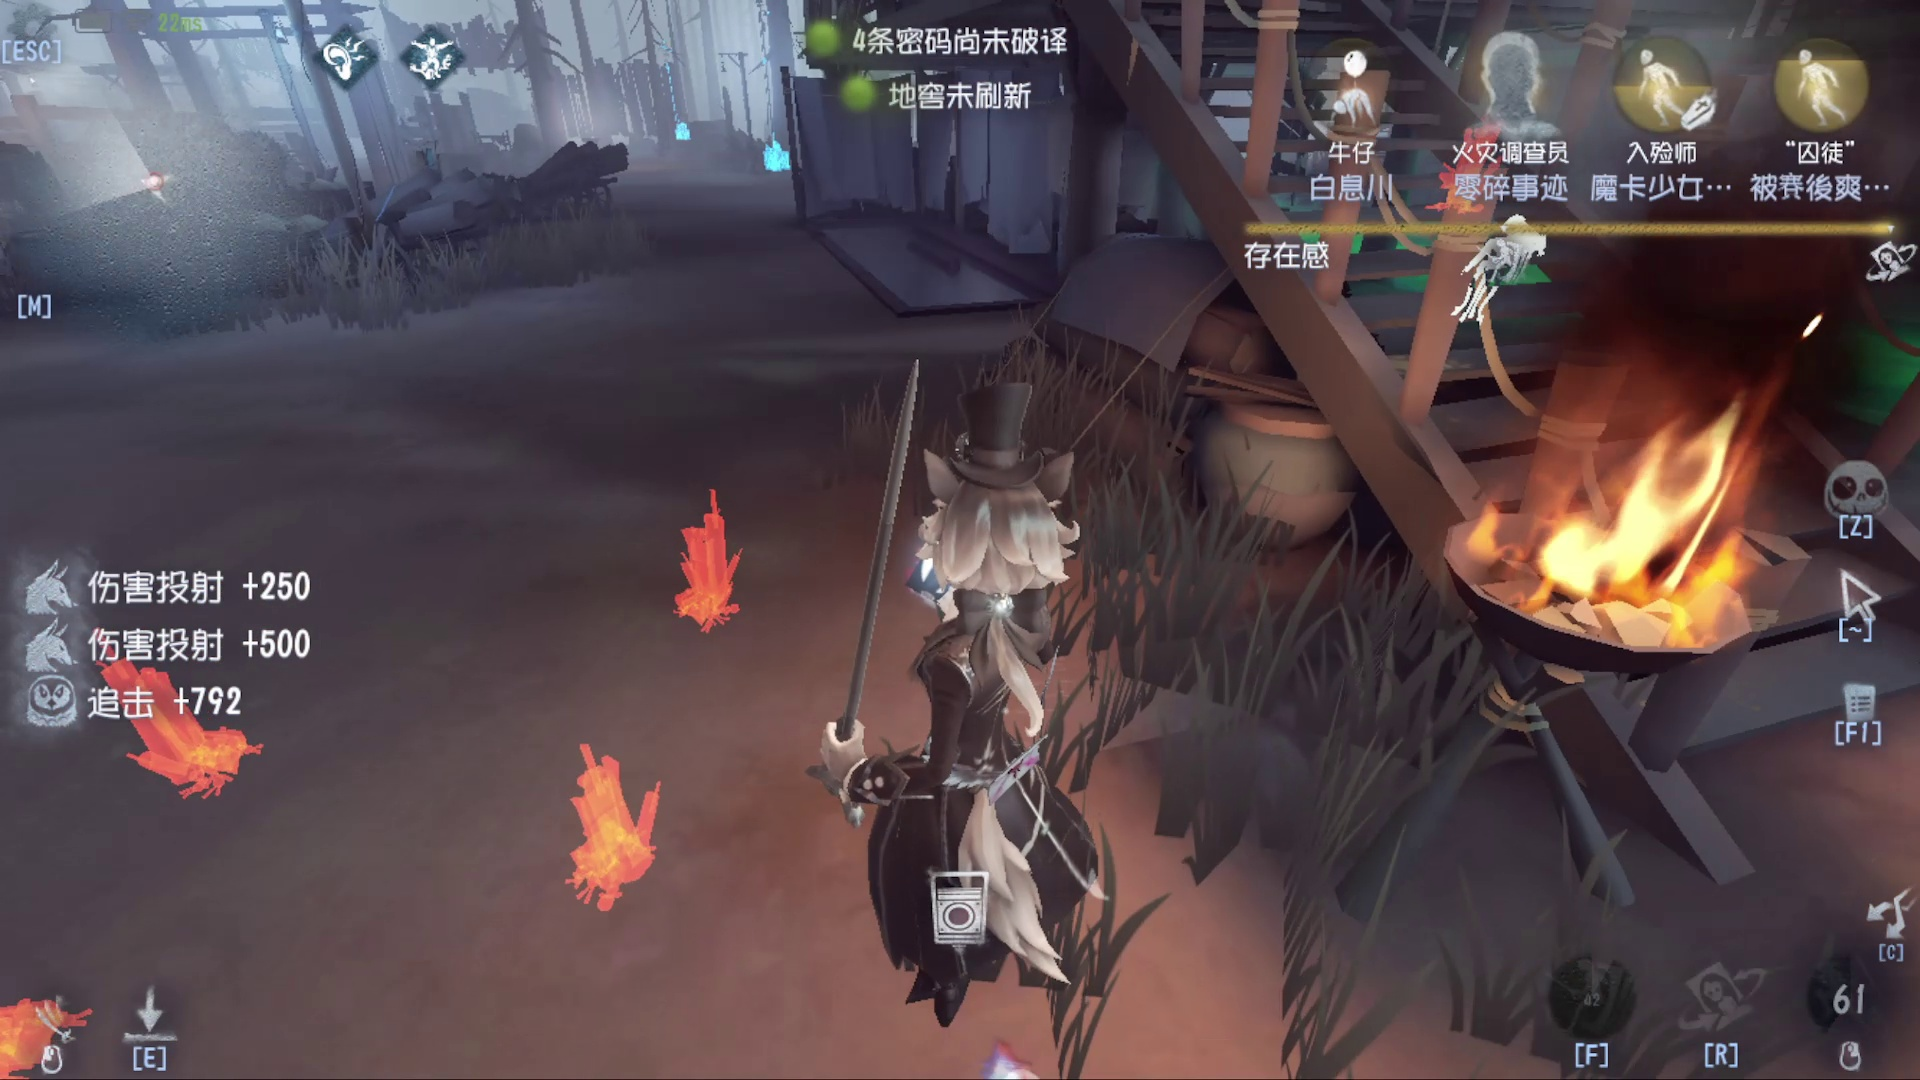密码机: (740, 32, 802, 193), (640, 34, 698, 160)
狂欢之椅: (624, 476, 752, 676), (549, 732, 679, 924)
